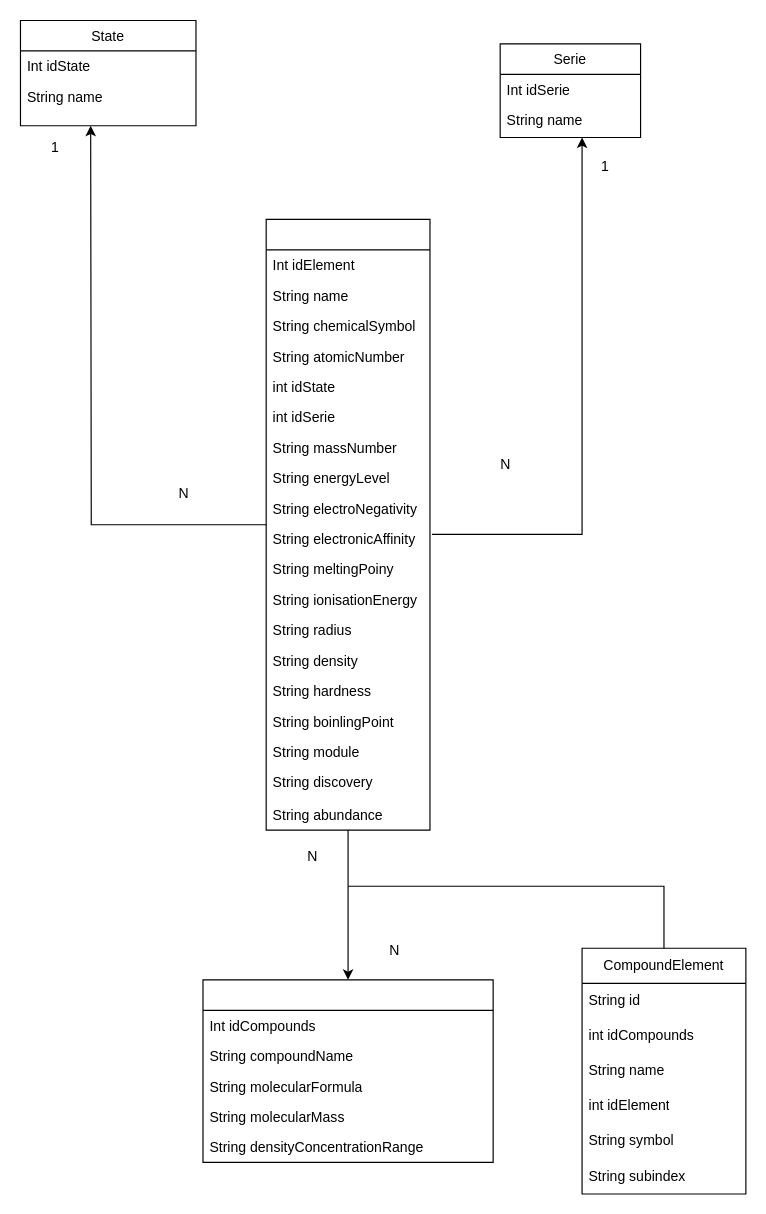
The diagram is 766 pixels wide and 1214 high, and some of its shapes have lost their labels. Each missing label, with the box of its shape:
ChemicalCompounds: (202, 979, 493, 1162)
ChemicalElement: (265, 218, 430, 830)
